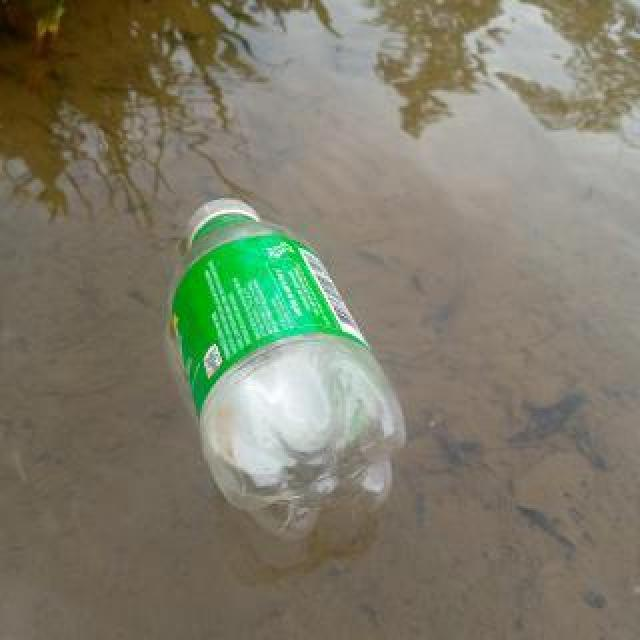bottle: (165, 196, 409, 540)
